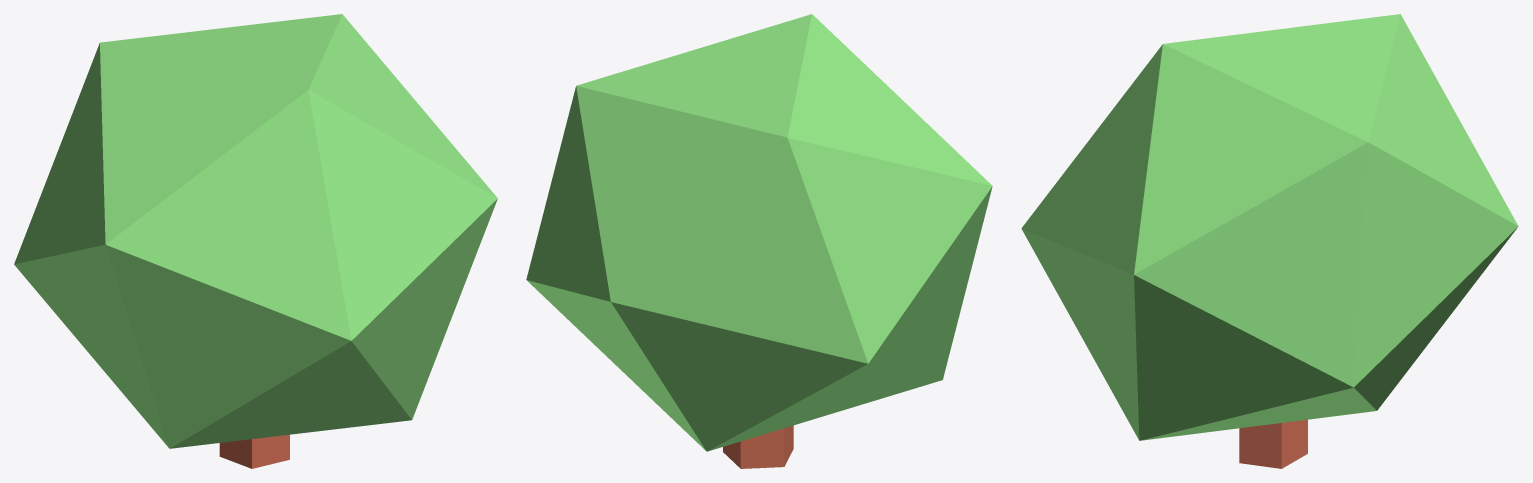
Rendered from BushModel.dae.
3 views of the same model, side by side, from view 1: azimuth 30°, elevation 25°; view 2: azimuth 150°, elevation 25°; view 3: azimuth 270°, elevation 25° (orthographic).
Parts seen in each view (by area): view 1: leaf.003, stem.001; view 2: leaf.003, stem.001; view 3: leaf.003, stem.001.
Boxes of the visible parts, box(x1,y1,x2,y2) form: leaf.003: box(14, 14, 497, 448); stem.001: box(219, 434, 289, 468); leaf.003: box(526, 14, 992, 451); stem.001: box(723, 425, 793, 468); leaf.003: box(1021, 14, 1518, 440); stem.001: box(1239, 419, 1307, 468).
Size of the model in its own units: 1.99 by 2.2 by 2.
